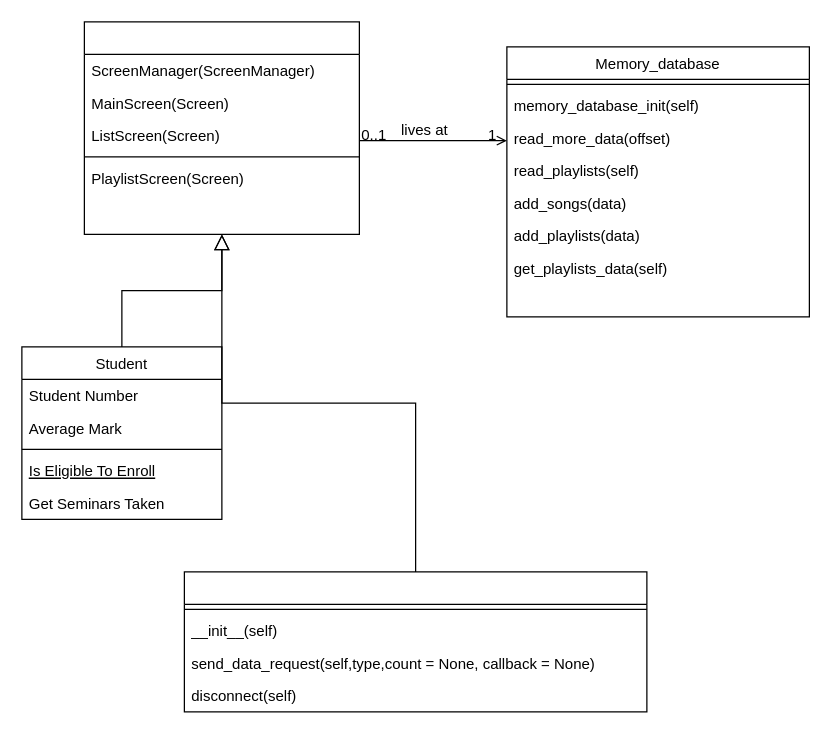
Image size: 831x738. Some labels were removed from this diagram. The shapes that lost their labels are listed below. From the top down, each one's box as (x1, y1, x2, y2) in pixels, then its label:
(83, 21, 359, 234): main.py
(183, 571, 647, 712): Client
